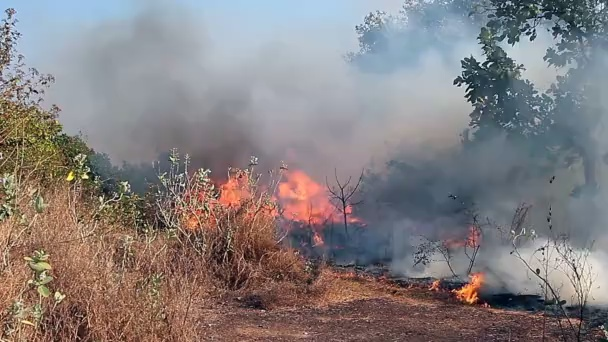fire: (456, 276, 479, 301), (65, 170, 74, 181)
